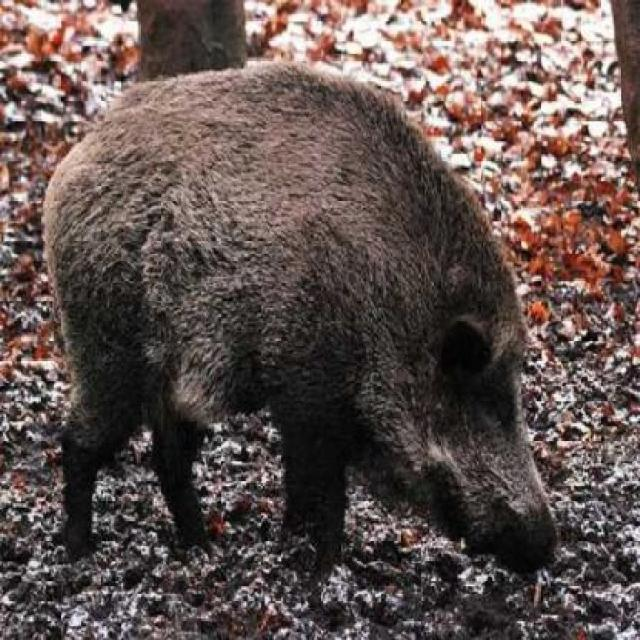Boar: (36, 52, 562, 588)
